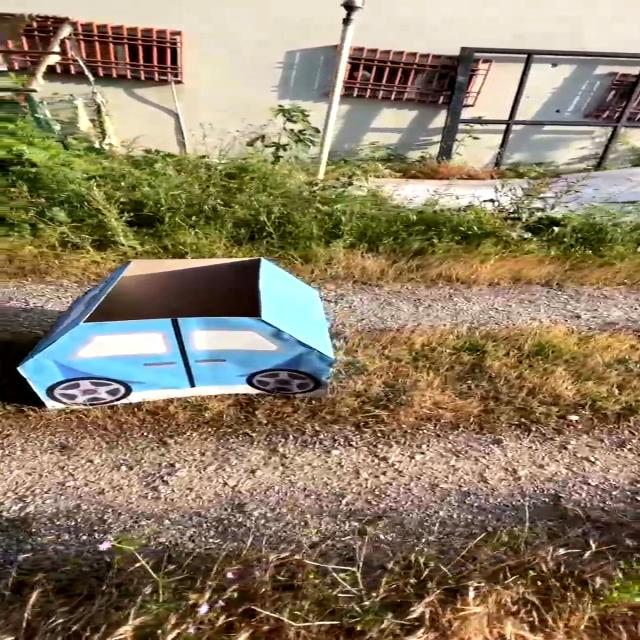blue_car: (0, 234, 380, 449)
